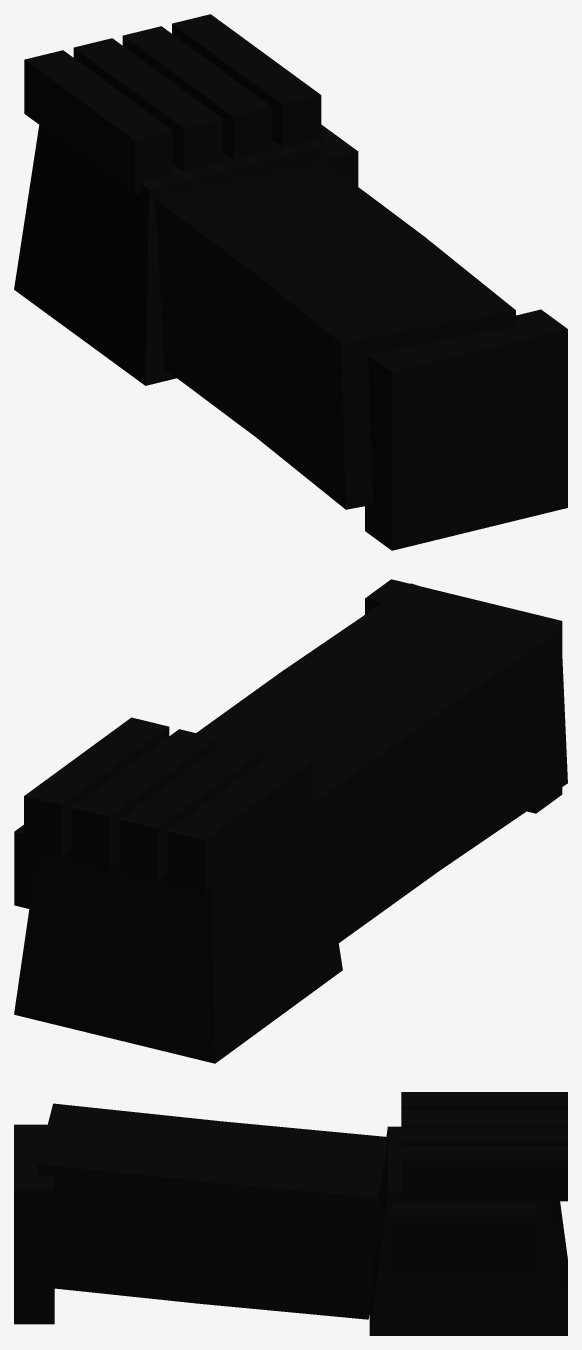
Rendered from crossbow_hand_part.obj.
The picture shows the model from 3 angles, top to bottom: view 1: azimuth 30°, elevation 25°; view 2: azimuth 150°, elevation 25°; view 3: azimuth 270°, elevation 25°; orthographic projection. The views are drawn at different scales.
Parts seen in each view (by area): view 1: crossbow_hand_part; view 2: crossbow_hand_part; view 3: crossbow_hand_part.
Part boxes in pixels (x1,y1,x2,y2): crossbow_hand_part: [14, 14, 567, 550]; crossbow_hand_part: [14, 579, 567, 1063]; crossbow_hand_part: [14, 1092, 567, 1335].
Size of the model in its own units: 0.0588 by 0.0525 by 0.1538.
